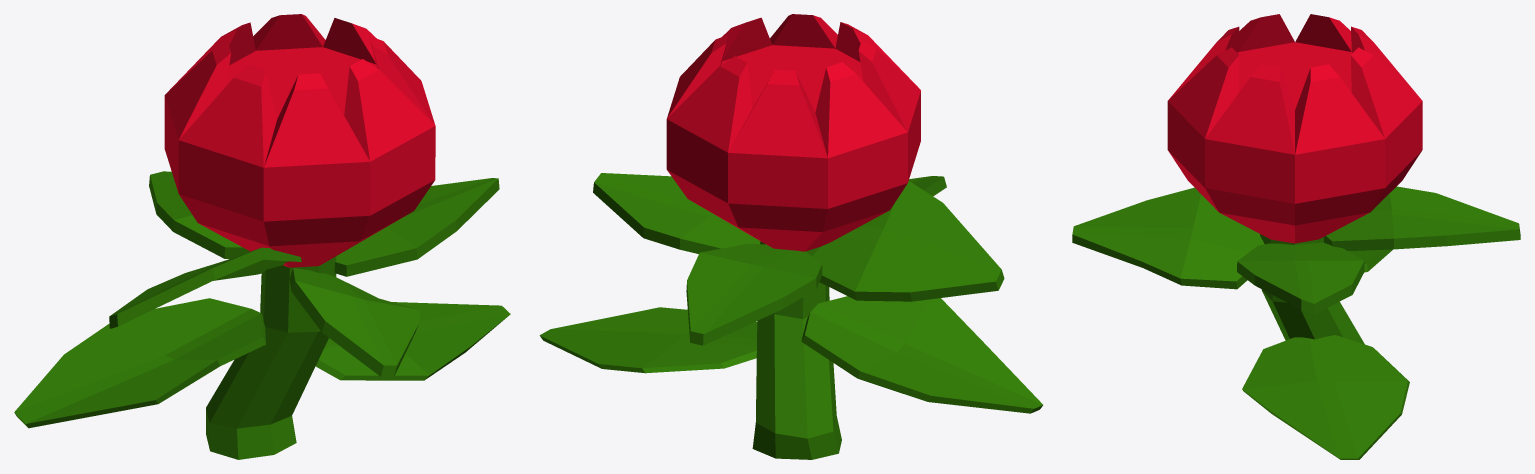
The model's file is flor_v_2.fbx.
The picture shows the model from 3 angles, left to right: view 1: azimuth 30°, elevation 25°; view 2: azimuth 150°, elevation 25°; view 3: azimuth 270°, elevation 25°; orthographic projection. The views are drawn at different scales.
Visible parts, largest first — view 1: Cylinder.001; view 2: Cylinder.001; view 3: Cylinder.001.
Boxes of the visible parts, x1,y1,x2,y2 form: Cylinder.001: (14,14,510,459); Cylinder.001: (539,14,1042,459); Cylinder.001: (1072,14,1520,459).
Bounding box in the file's own units: 86.89 × 66.42 × 73.15.
